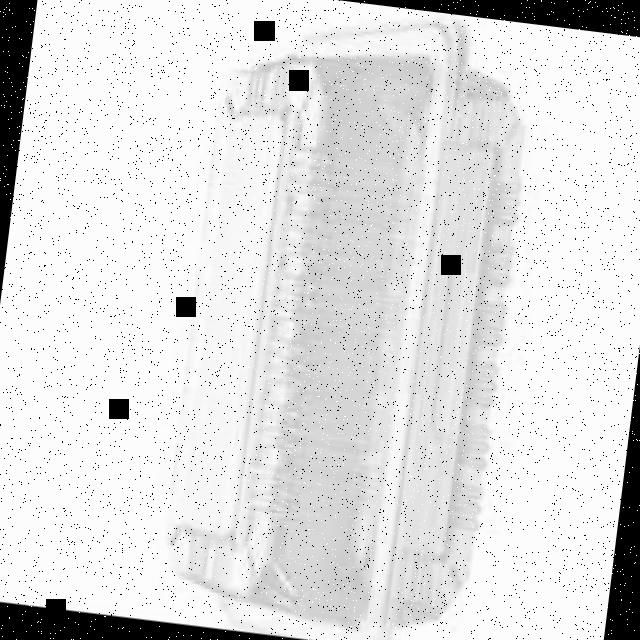plastic_box: (147, 0, 546, 640)
